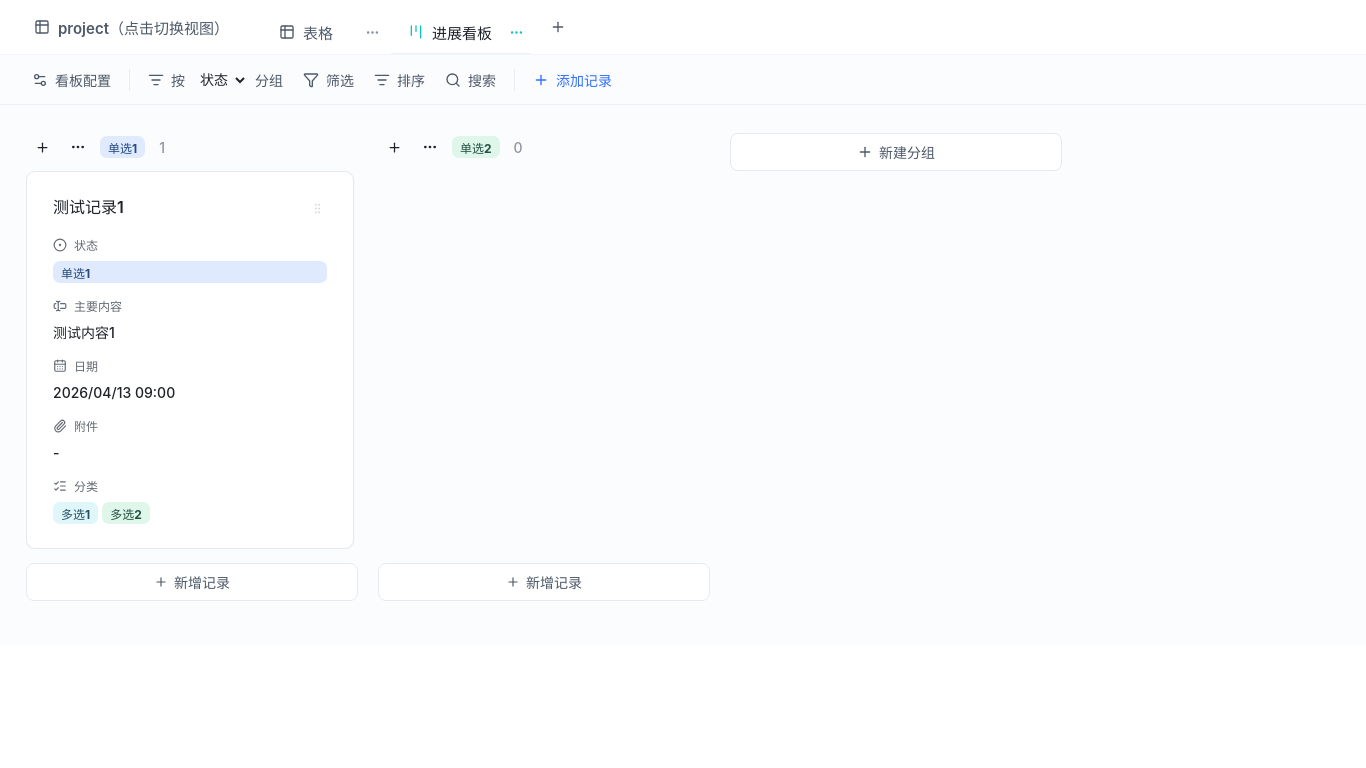
Test: 唯一表格视图不允许删除
Step 1. Click the button named "表格 视图操作" → x=373, y=32, box [359,10,387,54]
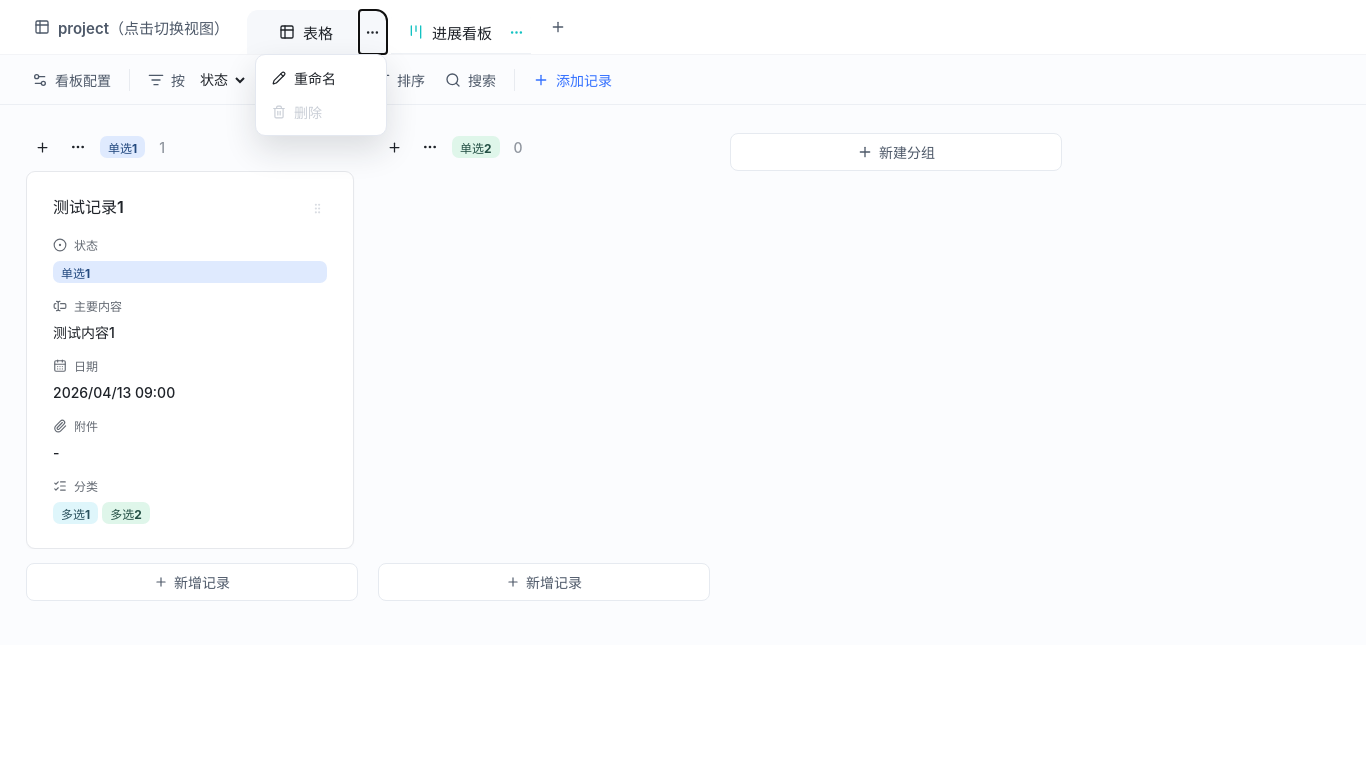
Now the menu item "删除" is disabled, box [262,95,380,129]
